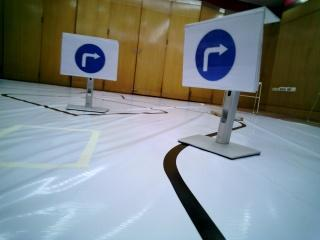right: (190, 27, 258, 84), (64, 35, 114, 82)
